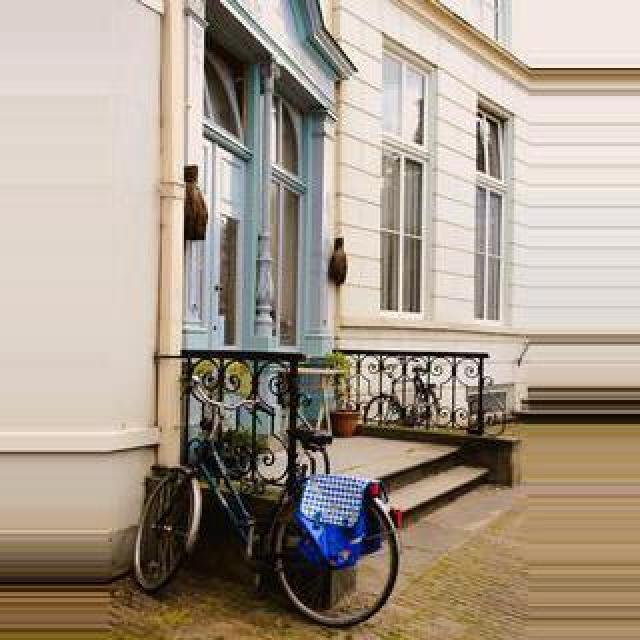Person: (131, 362, 401, 626), (401, 361, 451, 429), (360, 359, 408, 427), (461, 377, 507, 437)
